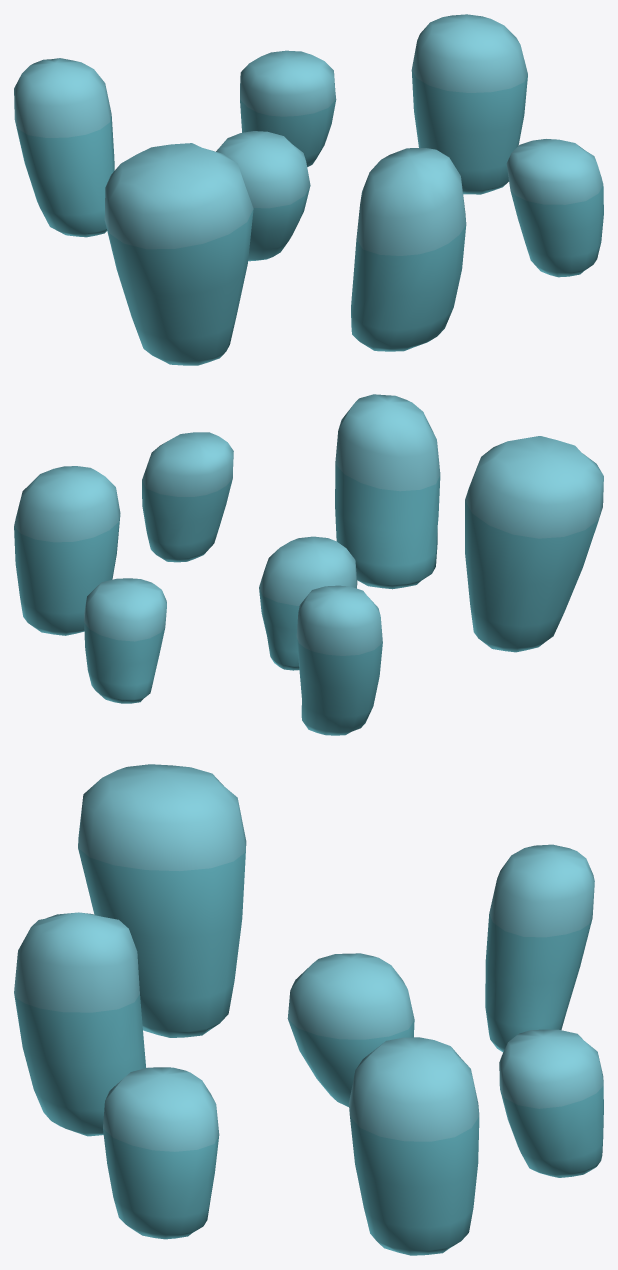
Rendered from Anemone_B_02.glb.
The picture shows the model from 3 angles, top to bottom: view 1: azimuth 30°, elevation 25°; view 2: azimuth 150°, elevation 25°; view 3: azimuth 270°, elevation 25°; orthographic projection. The views are drawn at different scales.
Parts seen in each view (by area): view 1: Anemone_B_02_LOD0; view 2: Anemone_B_02_LOD0; view 3: Anemone_B_02_LOD0.
Part boxes in pixels (x1,y1,x2,y2): Anemone_B_02_LOD0: (14,14,603,365); Anemone_B_02_LOD0: (14,394,603,735); Anemone_B_02_LOD0: (14,764,603,1255).
Size of the model in its own units: 5.68 by 2.18 by 4.91.
1 material, 1 textured.
